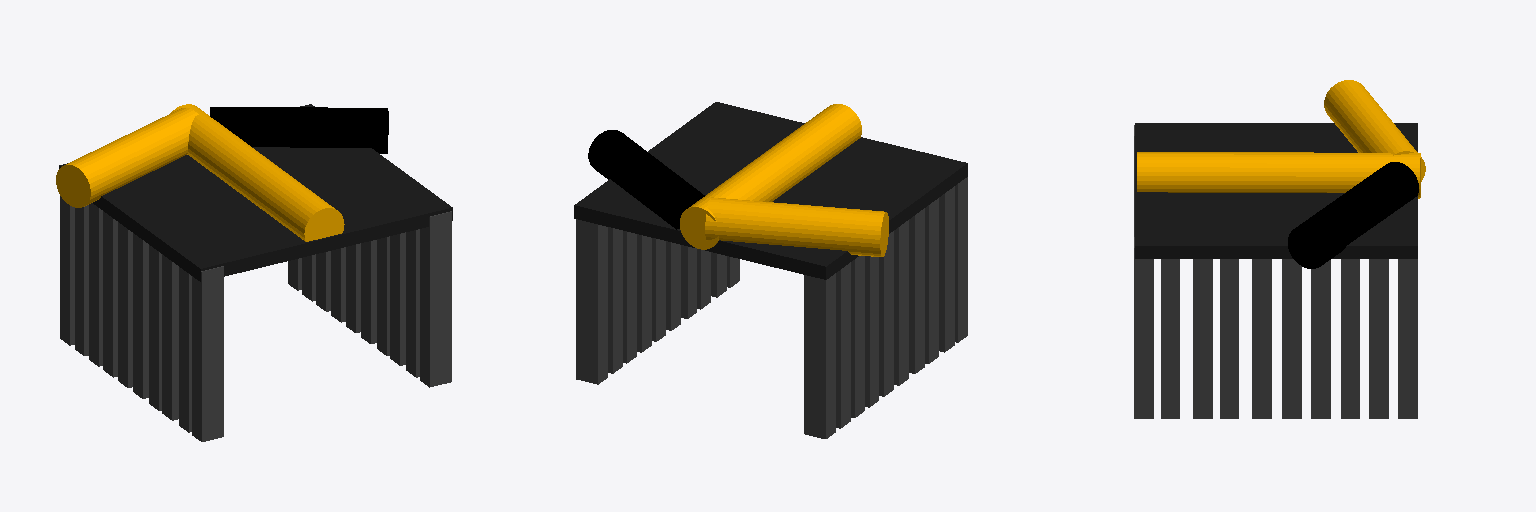
File: conveyer.obj
3 views of the same model, side by side, from view 1: azimuth 30°, elevation 25°; view 2: azimuth 150°, elevation 25°; view 3: azimuth 270°, elevation 25° (orthographic).
Parts seen in each view (by area): view 1: Cube.003, Cylinder.010, Cylinder.014, Cylinder.015, Cube.014, Cube.001, Cube.012, Cube.010, Cube.008, Cube.009, Cube.007, Cube.005 (+11 smaller); view 2: Cube.003, Cylinder.015, Cylinder.010, Cylinder.014, Cube.005, Cube.023, Cube.013, Cube.011, Cube.006, Cube.010, Cube.009, Cube.012 (+11 smaller); view 3: Cube.003, Cylinder.010, Cylinder.014, Cylinder.015, Cube.001, Cube.023, Cube.022, Cube.018, Cube.016, Cube.019, Cube.020, Cube.021 (+2 smaller).
Boxes of the visible parts, x1=… form: Cube.003: x1=59, y1=104, x2=452, y2=281; Cylinder.010: x1=170, y1=104, x2=344, y2=241; Cylinder.014: x1=210, y1=107, x2=388, y2=153; Cylinder.015: x1=56, y1=108, x2=198, y2=207; Cube.014: x1=192, y1=266, x2=223, y2=441; Cube.001: x1=420, y1=211, x2=451, y2=387; Cube.012: x1=162, y1=254, x2=178, y2=420; Cube.010: x1=133, y1=233, x2=148, y2=398; Cube.008: x1=103, y1=211, x2=117, y2=377; Cube.009: x1=118, y1=222, x2=132, y2=387; Cube.007: x1=89, y1=203, x2=102, y2=366; Cube.005: x1=60, y1=196, x2=74, y2=345; Cube.003: x1=574, y1=102, x2=967, y2=279; Cylinder.015: x1=705, y1=197, x2=888, y2=256; Cylinder.010: x1=680, y1=104, x2=861, y2=249; Cylinder.014: x1=588, y1=130, x2=704, y2=229; Cube.005: x1=804, y1=273, x2=835, y2=438; Cube.023: x1=576, y1=219, x2=607, y2=384; Cube.013: x1=939, y1=186, x2=954, y2=352; Cube.011: x1=909, y1=208, x2=924, y2=373; Cube.006: x1=836, y1=262, x2=850, y2=428; Cube.010: x1=894, y1=220, x2=908, y2=385; Cube.009: x1=879, y1=231, x2=893, y2=396; Cube.012: x1=925, y1=198, x2=938, y2=363; Cube.003: x1=1135, y1=123, x2=1417, y2=258; Cylinder.010: x1=1137, y1=152, x2=1420, y2=198; Cylinder.014: x1=1288, y1=162, x2=1418, y2=268; Cylinder.015: x1=1324, y1=80, x2=1425, y2=181; Cube.001: x1=1134, y1=237, x2=1153, y2=418; Cube.023: x1=1398, y1=259, x2=1417, y2=418; Cube.022: x1=1369, y1=259, x2=1388, y2=418; Cube.018: x1=1252, y1=259, x2=1271, y2=418; Cube.016: x1=1193, y1=259, x2=1212, y2=418; Cube.019: x1=1282, y1=259, x2=1301, y2=418; Cube.020: x1=1311, y1=260, x2=1330, y2=418; Cube.021: x1=1341, y1=259, x2=1359, y2=418.
Bounding box in the file's own units: 2.5 × 1.57 × 2.02.